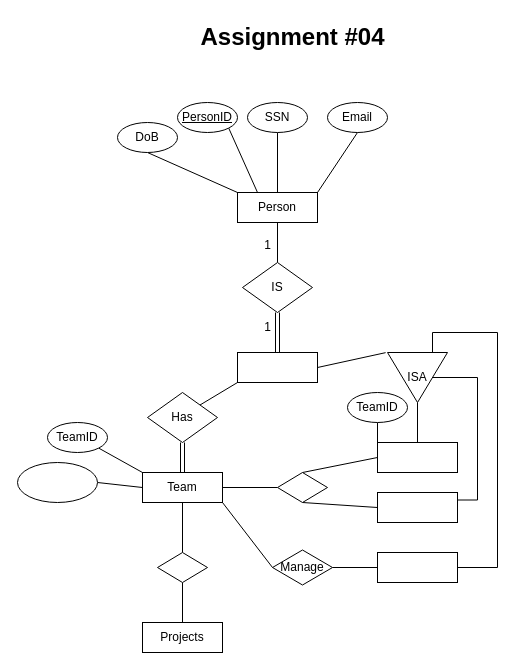
The diagram is 516 pixels wide and 670 high, and some of its shapes have lost their labels. Here are the shapes that lost their labels. From the top down, the box of each, then its label:
(236, 352, 318, 382): Employee
(376, 442, 458, 472): Feild
(16, 462, 98, 502): Total-Members
(276, 472, 328, 502): Have
(376, 492, 458, 522): Desk
(156, 552, 208, 582): Include
(376, 552, 458, 582): Manager
